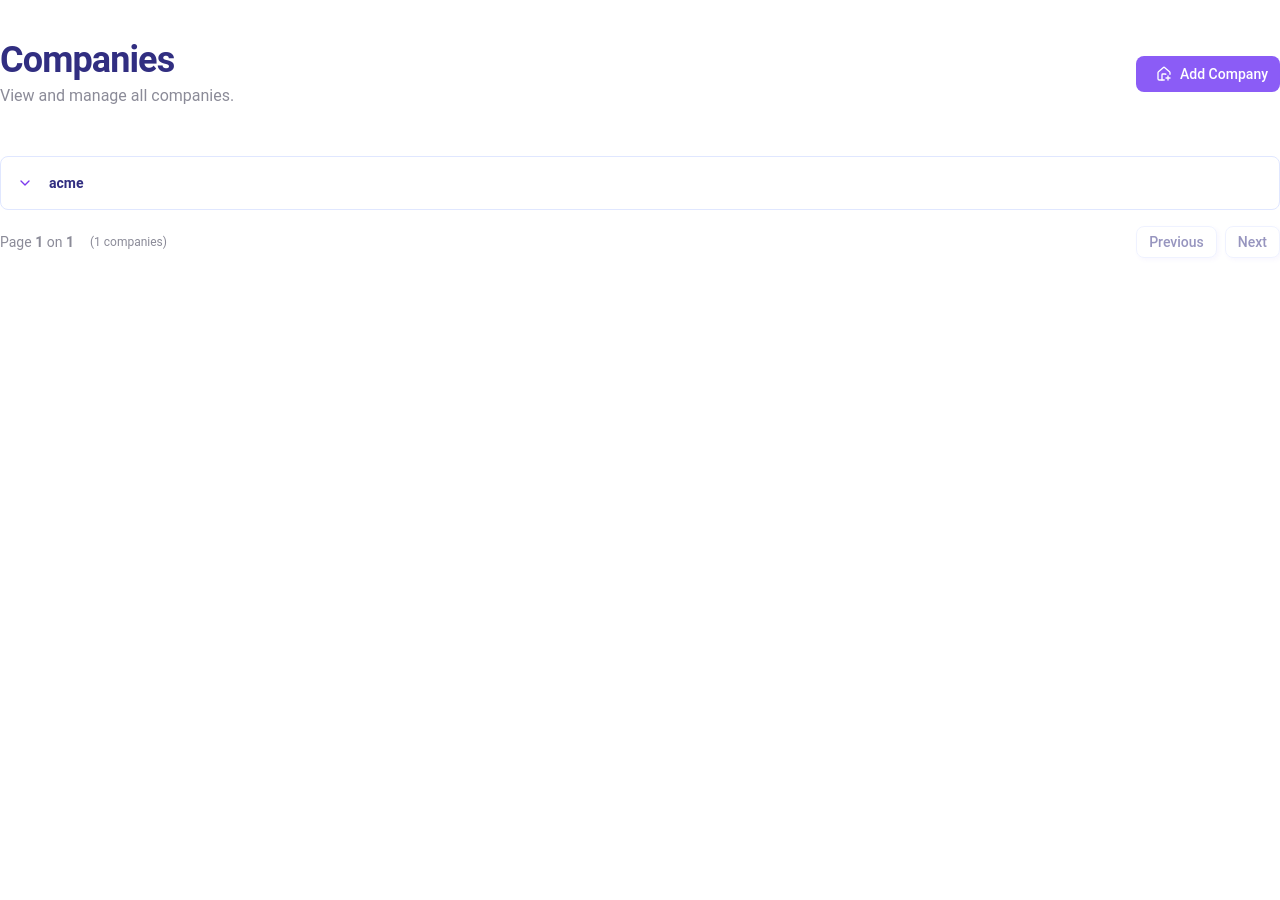
CompaniesPage › opens dialog and adds a new company to the list
Click the button "Add Company". click: click(1208, 74)
box: [1136,56,1279,92]
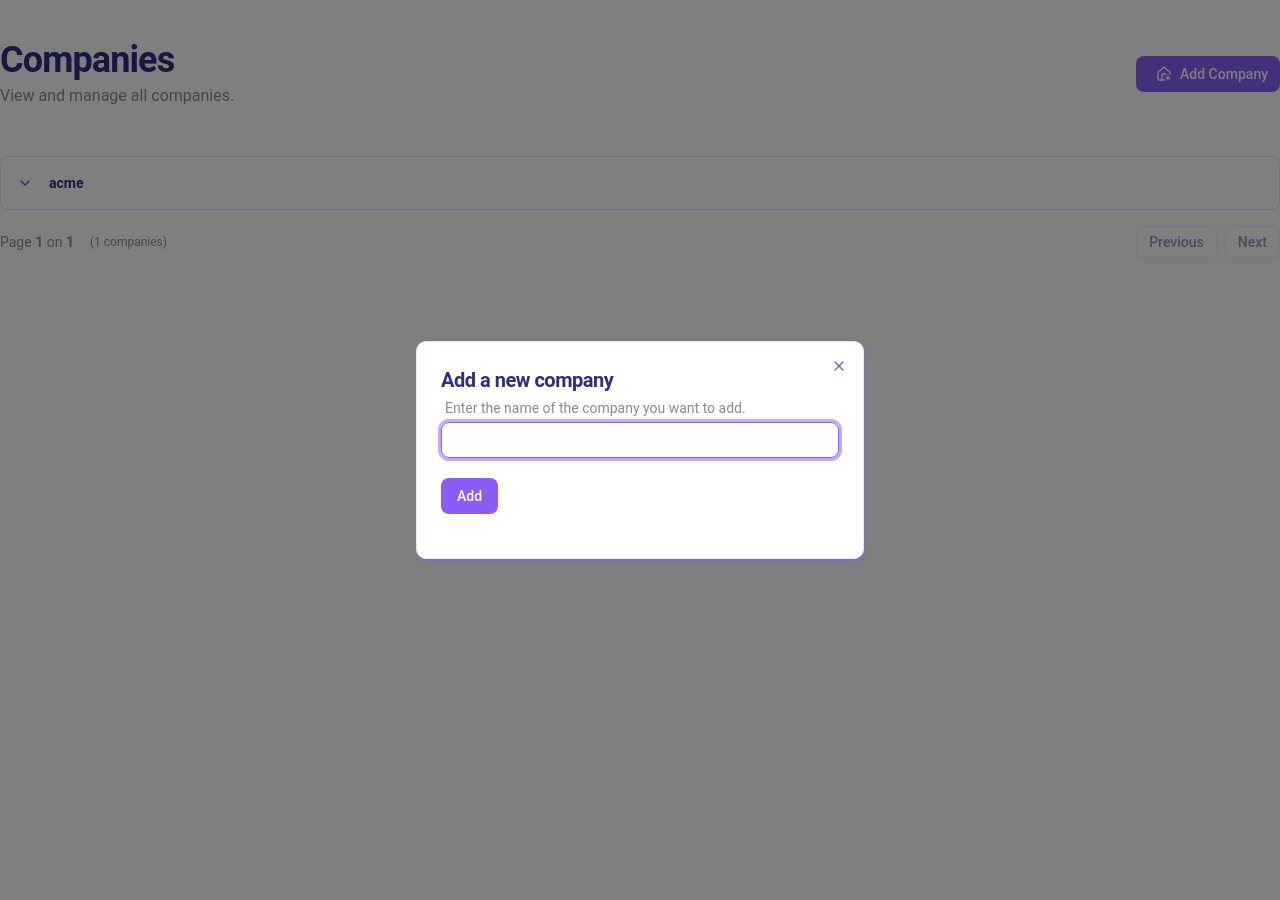
Check: the field named "company" is shown
Type "New company" into the field named "company". click: (640, 440)
box: [441,422,839,458]
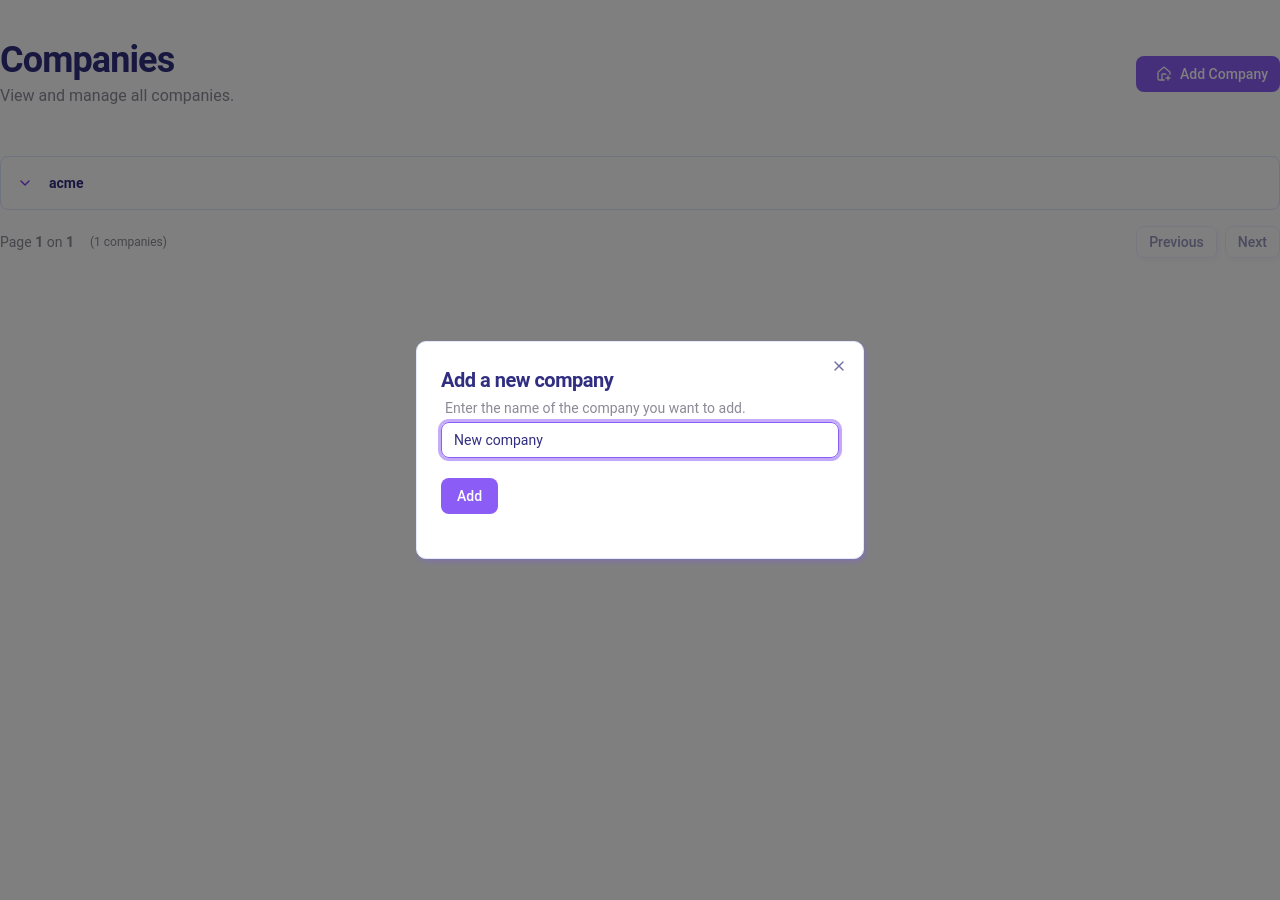
Click the button "Add". click: click(470, 496)
box: [441,478,498,514]
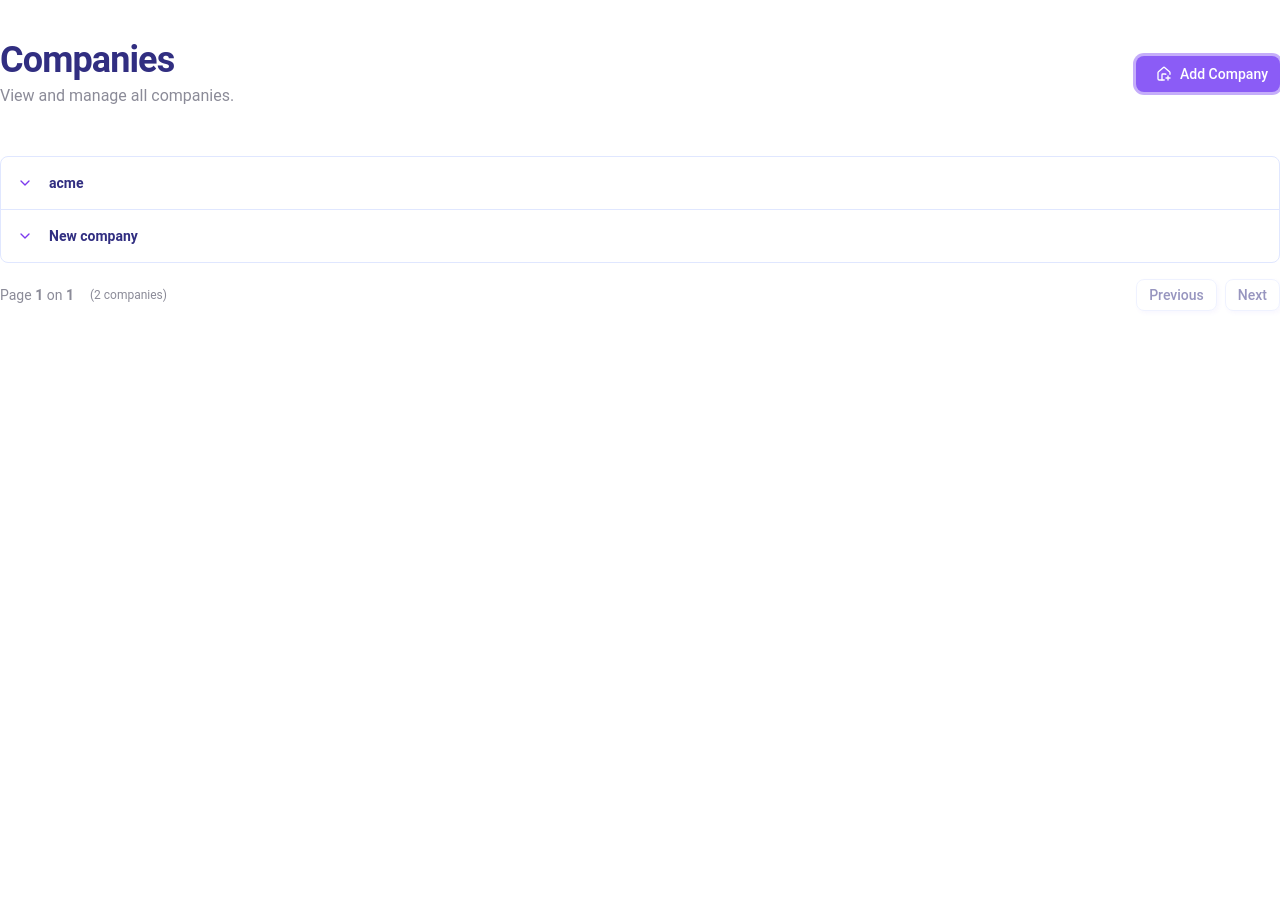
Check: the text "New company" is shown, box [49,228,138,244]
Check: the heading "Add a new company" is gone
